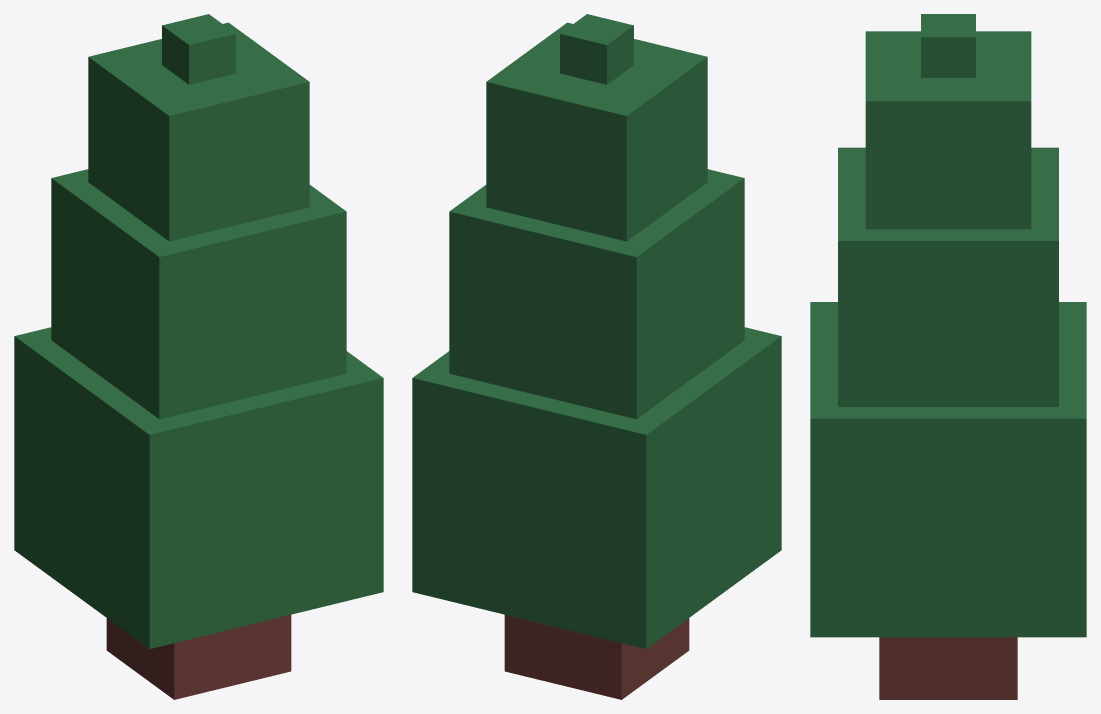
The model's file is square_tree.fbx.
3 views of the same model, side by side, from view 1: azimuth 30°, elevation 25°; view 2: azimuth 150°, elevation 25°; view 3: azimuth 270°, elevation 25° (orthographic). The views are drawn at different scales.
Visible parts, largest first — view 1: Cube.006, Cube.007, Cube.008, Cube.005, Cube.009; view 2: Cube.006, Cube.007, Cube.008, Cube.005, Cube.009; view 3: Cube.006, Cube.007, Cube.008, Cube.005, Cube.009.
Boxes of the visible parts, box(x1,y1,x2,y2) form: Cube.006: box(14, 327, 383, 649); Cube.007: box(51, 169, 346, 419); Cube.008: box(88, 22, 309, 241); Cube.005: box(106, 615, 291, 699); Cube.009: box(162, 14, 235, 84); Cube.006: box(412, 327, 781, 649); Cube.007: box(449, 169, 744, 419); Cube.008: box(486, 22, 707, 241); Cube.005: box(504, 615, 689, 699); Cube.009: box(560, 14, 633, 84); Cube.006: box(810, 302, 1086, 637); Cube.007: box(838, 147, 1058, 406); Cube.008: box(865, 31, 1031, 229); Cube.005: box(879, 637, 1017, 699); Cube.009: box(921, 14, 975, 77).
Size of the model in its own units: 2.4 by 6.19 by 2.4.
